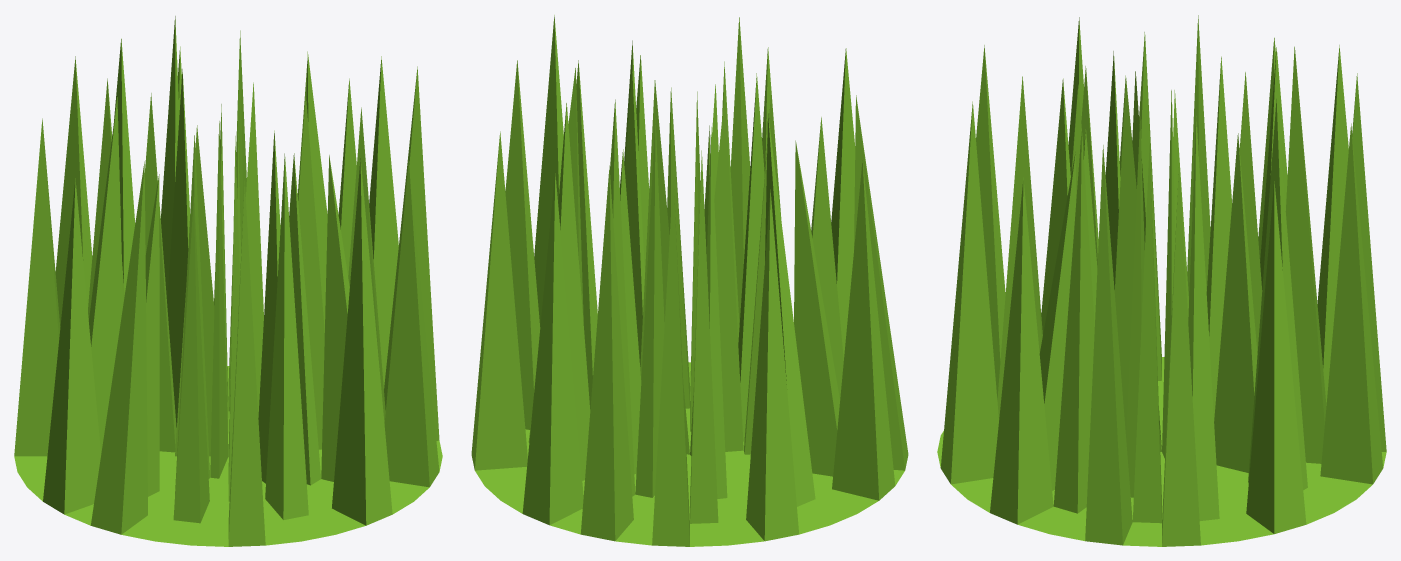
3 renders of one model, left to right at view 1: azimuth 30°, elevation 25°; view 2: azimuth 150°, elevation 25°; view 3: azimuth 270°, elevation 25°, orthographic. The views are drawn at different scales.
Visible parts, largest first — view 1: ディスク; view 2: ディスク; view 3: ディスク.
Part boxes in pixels (x1,y1,x2,y2): ディスク: (14,16,442,546); ディスク: (471,15,908,546); ディスク: (937,15,1386,546).
Bounding box in the file's own units: 200 × 203 × 200.
